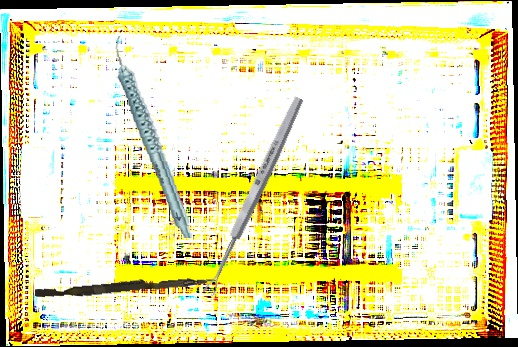Handpiece: (111, 29, 196, 245)
Pusher: (34, 270, 217, 303)
Surgical Spoon: (201, 94, 306, 298)
